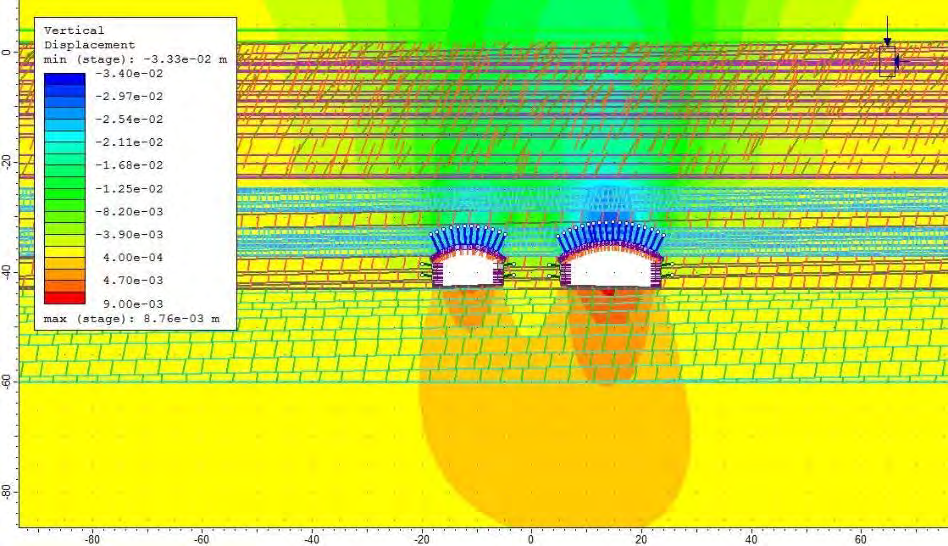crown: (599, 228, 620, 240), (457, 233, 476, 244)
label: (35, 18, 236, 328)
tunnel-opening: (561, 241, 662, 285), (434, 245, 504, 287)
